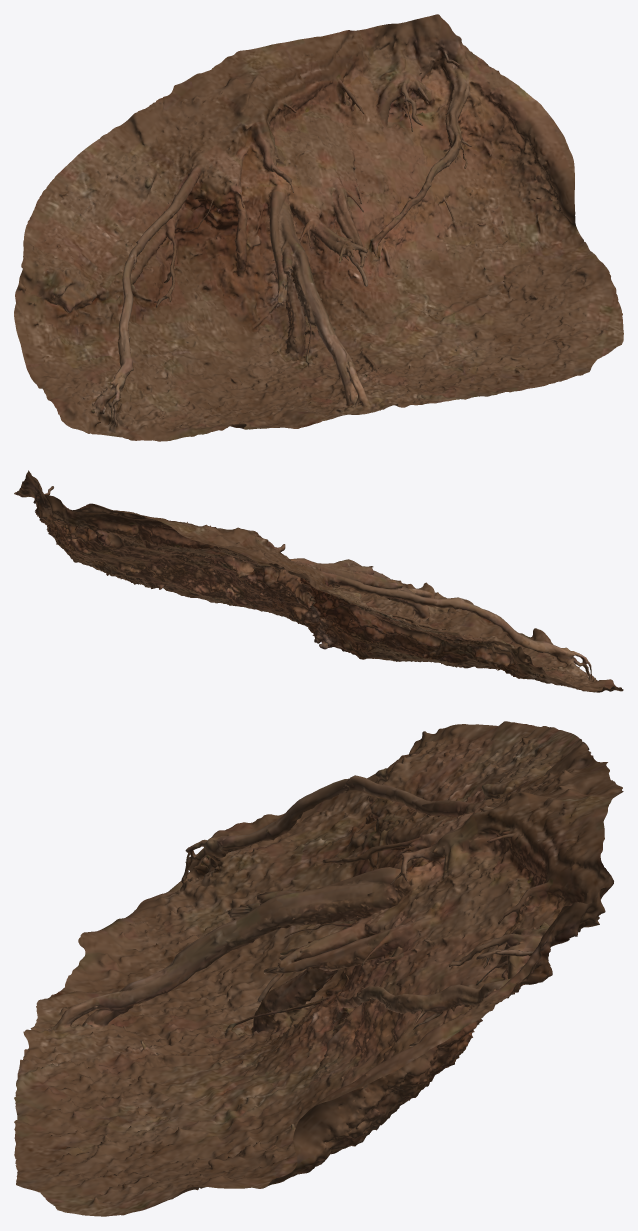
3 views of the same model, one above another, from view 1: azimuth 30°, elevation 25°; view 2: azimuth 150°, elevation 25°; view 3: azimuth 270°, elevation 25° (orthographic). The views are drawn at different scales.
Parts seen in each view (by area): view 1: root_cluster_01; view 2: root_cluster_01; view 3: root_cluster_01.
Part boxes in pixels (left/top/right/bottom): root_cluster_01: left=14, top=14, right=623, bottom=441; root_cluster_01: left=14, top=470, right=623, bottom=692; root_cluster_01: left=14, top=721, right=623, bottom=1216.
Bounding box in the file's own units: 4.12 × 1.51 × 2.68.
Materials: 1 (1 with a texture image).
